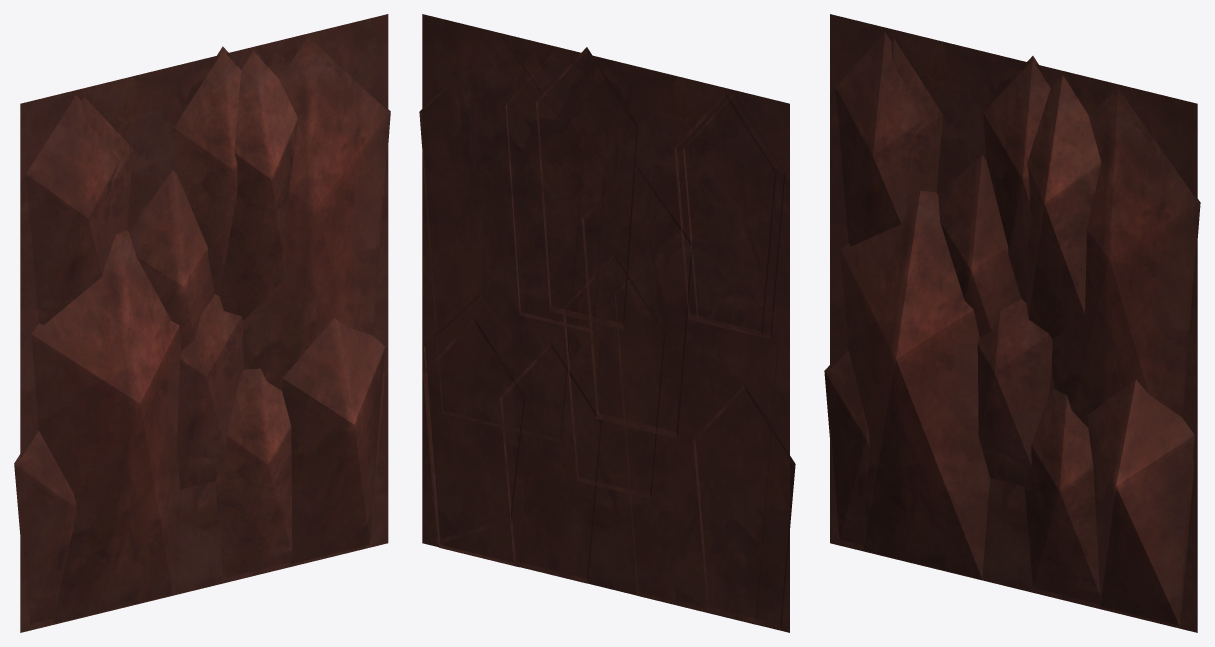
The model's file is lava_wall_straight_01.fbx.
3 renders of one model, left to right at view 1: azimuth 30°, elevation 25°; view 2: azimuth 150°, elevation 25°; view 3: azimuth 330°, elevation 25°, orthographic.
Visible parts, largest first — view 1: obj1.001; view 2: obj1.001; view 3: obj1.001.
Part boxes in pixels (left/top/right/bottom): obj1.001: left=14, top=14, right=390, bottom=632; obj1.001: left=419, top=14, right=795, bottom=632; obj1.001: left=824, top=14, right=1200, bottom=632.
Size of the model in its own units: 4.09 by 5.58 by 0.5154.
